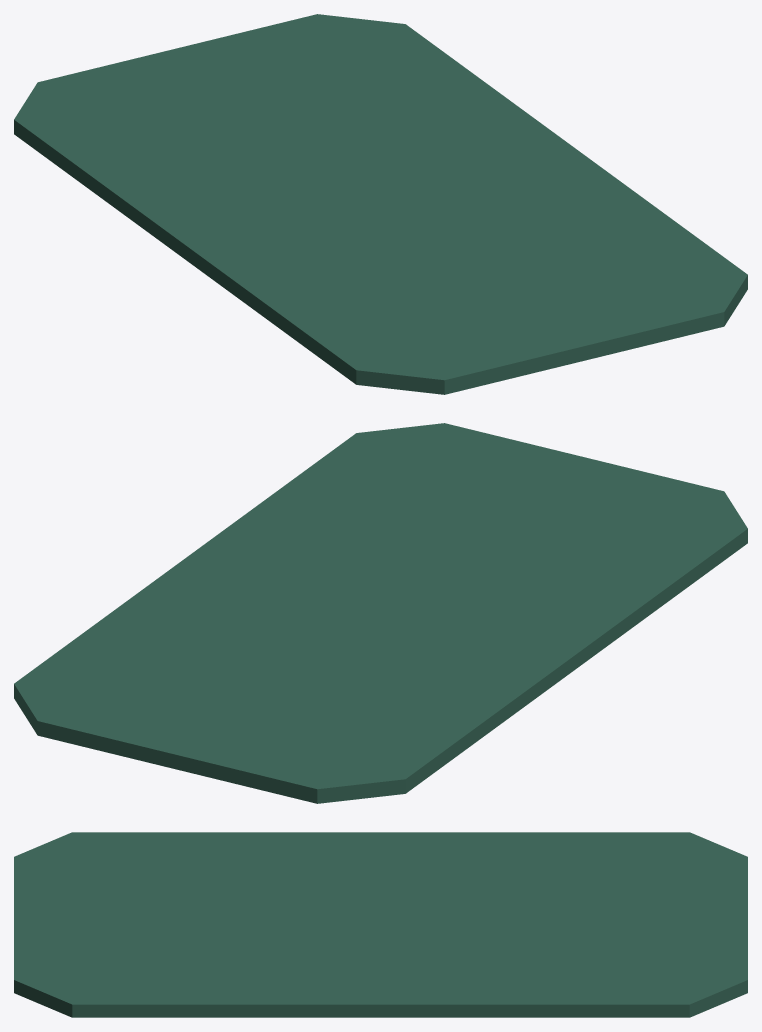
File: vls8_mount.obj
The picture shows the model from 3 angles, top to bottom: view 1: azimuth 30°, elevation 25°; view 2: azimuth 150°, elevation 25°; view 3: azimuth 270°, elevation 25°; orthographic projection. The views are drawn at different scales.
Visible parts, largest first — view 1: vls8_mount; view 2: vls8_mount; view 3: vls8_mount.
Boxes of the visible parts, left/top/right/bottom form: vls8_mount: left=14, top=14, right=747, bottom=394; vls8_mount: left=14, top=423, right=747, bottom=803; vls8_mount: left=14, top=832, right=747, bottom=1017.
Bounding box in the file's own units: 2.8 × 0.1 × 5.04.
